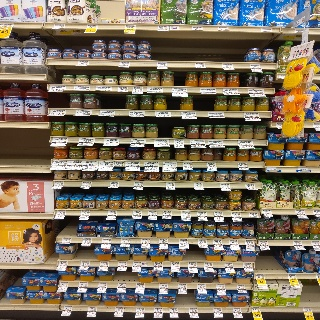All PRICE TAGS: (49, 85, 65, 90), (96, 86, 112, 91), (76, 110, 92, 115), (243, 112, 259, 117), (52, 137, 68, 142), (148, 87, 163, 92), (172, 87, 187, 92), (100, 110, 115, 115), (129, 111, 144, 116), (156, 111, 170, 116), (100, 161, 114, 166), (126, 161, 140, 166), (144, 161, 158, 166), (84, 160, 97, 165), (74, 86, 90, 90), (248, 89, 264, 93), (50, 110, 66, 114), (200, 88, 215, 92), (223, 88, 238, 92), (181, 112, 196, 116), (208, 112, 223, 116), (79, 138, 94, 142), (238, 140, 253, 144), (70, 161, 82, 166), (105, 138, 119, 142), (131, 139, 145, 143), (155, 139, 169, 143), (191, 140, 205, 144), (209, 140, 223, 144), (163, 162, 177, 166), (78, 60, 89, 65), (0, 23, 13, 27), (118, 86, 128, 91), (174, 139, 184, 144), (237, 162, 247, 167), (107, 210, 117, 215), (213, 239, 223, 244), (170, 262, 180, 267), (53, 24, 65, 28), (183, 162, 192, 167), (207, 162, 216, 167), (54, 181, 63, 186), (81, 210, 90, 215), (133, 210, 142, 215), (181, 211, 190, 216), (121, 238, 130, 243), (141, 238, 150, 243), (198, 239, 207, 244), (245, 240, 254, 245), (100, 261, 109, 266), (118, 261, 127, 266), (188, 262, 197, 267), (204, 262, 213, 267), (224, 262, 233, 267), (98, 282, 107, 287), (197, 284, 206, 289), (115, 307, 124, 312), (256, 274, 265, 279), (222, 63, 233, 67), (87, 24, 98, 28), (125, 25, 136, 29), (158, 26, 169, 30), (261, 28, 272, 32), (119, 61, 130, 65), (195, 63, 205, 67), (250, 64, 260, 68), (133, 87, 143, 91), (109, 182, 119, 186), (56, 211, 66, 215), (148, 211, 158, 215), (231, 212, 241, 216), (250, 212, 258, 217), (59, 261, 67, 266), (81, 261, 89, 266), (243, 263, 253, 267), (192, 26, 202, 30), (157, 62, 167, 66), (178, 283, 186, 288), (216, 284, 226, 288), (237, 284, 245, 289), (136, 307, 144, 312), (295, 210, 305, 214), (312, 241, 320, 246), (252, 307, 260, 312), (82, 182, 91, 186), (134, 182, 143, 186), (166, 182, 175, 186), (194, 183, 203, 187), (220, 183, 229, 187), (246, 184, 255, 188), (163, 211, 172, 215), (198, 212, 207, 216), (214, 212, 223, 216), (62, 238, 71, 242), (83, 238, 92, 242), (102, 238, 111, 242), (179, 239, 188, 243), (229, 240, 238, 244), (132, 262, 141, 266), (153, 262, 162, 266), (59, 282, 68, 286), (79, 282, 88, 286), (136, 283, 145, 287), (159, 283, 168, 287), (88, 307, 97, 311), (169, 308, 178, 312), (189, 308, 198, 312), (213, 308, 222, 312), (262, 209, 271, 213), (293, 241, 302, 245), (259, 241, 268, 245), (288, 274, 297, 278), (303, 308, 312, 312), (276, 122, 283, 127), (313, 123, 320, 128), (218, 27, 229, 30), (115, 161, 123, 165), (160, 239, 168, 243), (118, 283, 126, 287), (64, 306, 72, 310), (154, 308, 162, 312), (233, 308, 241, 312), (314, 210, 319, 214)
